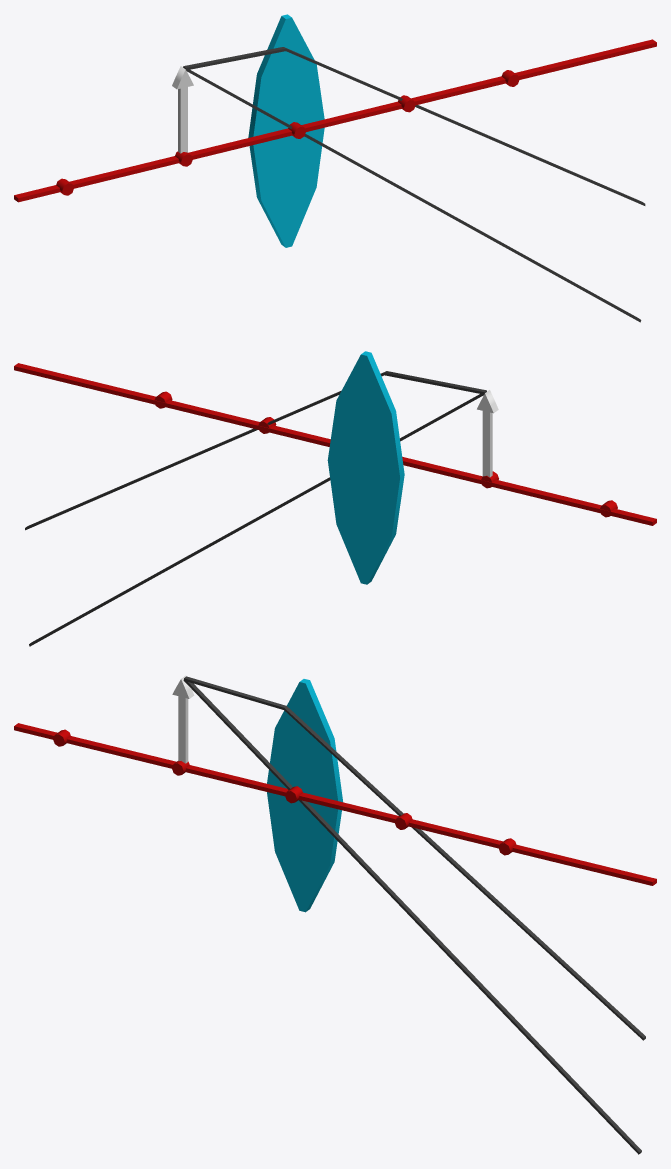
File: last5.fbx
3 views of the same model, one above another, from view 1: azimuth 30°, elevation 25°; view 2: azimuth 150°, elevation 25°; view 3: azimuth 330°, elevation 25° (orthographic).
Parts seen in each view (by area): view 1: last5; view 2: last5; view 3: last5.
Part boxes in pixels (bbox=[...]): last5: bbox=[14, 14, 656, 322]; last5: bbox=[14, 351, 656, 646]; last5: bbox=[14, 675, 656, 1154].
Bounding box in the file's own units: 31.68 × 18.13 × 1.36.
